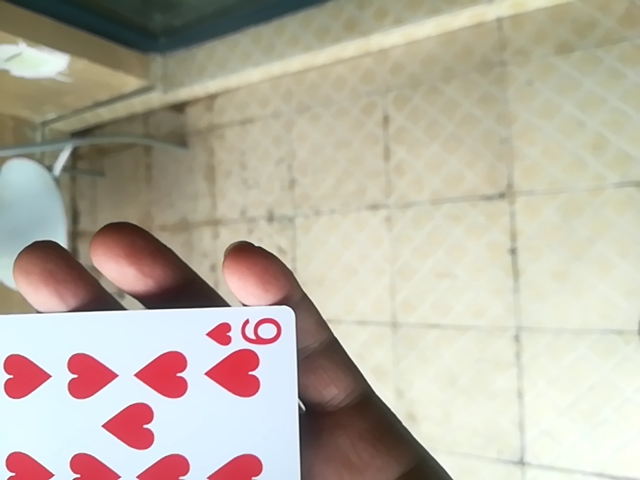hx 9: (0, 301, 304, 478)
